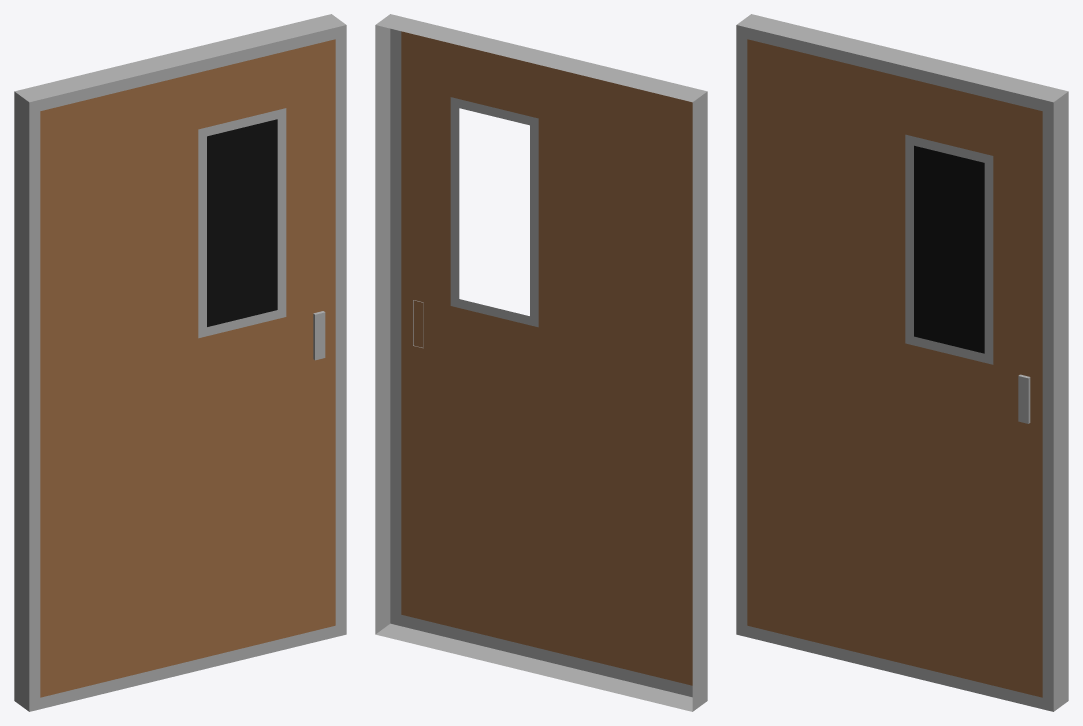
File: Door2.fbx
3 views of the same model, side by side, from view 1: azimuth 30°, elevation 25°; view 2: azimuth 150°, elevation 25°; view 3: azimuth 330°, elevation 25° (orthographic).
Visible parts, largest first — view 1: Door2; view 2: Door2; view 3: Door2.
Part boxes in pixels (x1=…): Door2: x1=14, y1=14, x2=346, y2=711; Door2: x1=375, y1=14, x2=707, y2=711; Door2: x1=736, y1=14, x2=1068, y2=711.
Bounding box in the file's own units: 175 × 321 × 16.15.
